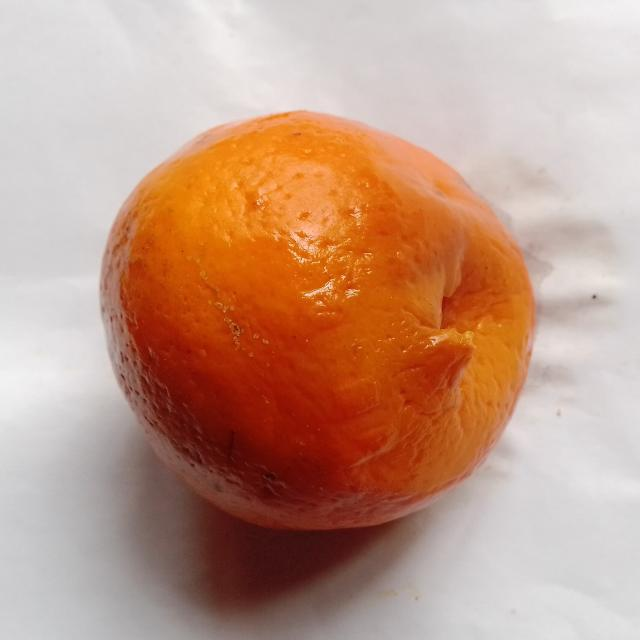orange: (101, 112, 534, 529)
